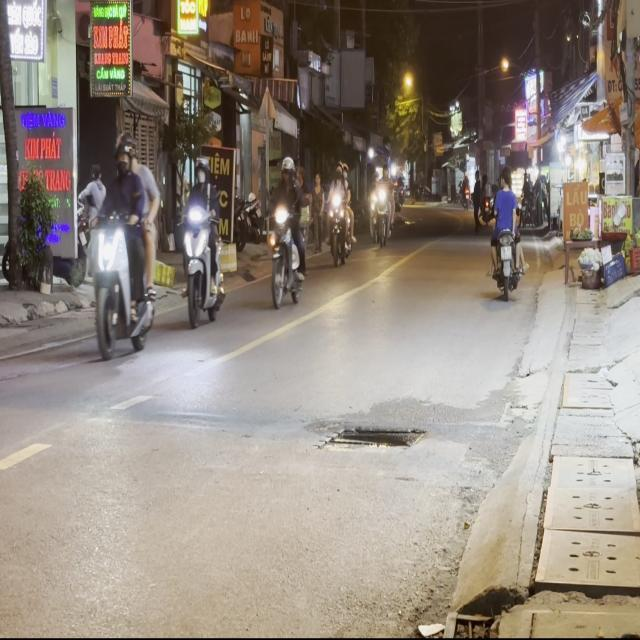helmet: (113, 131, 133, 175), (193, 155, 208, 185), (280, 155, 294, 180)
licenseplate: (85, 129, 159, 360), (178, 154, 226, 327), (266, 153, 306, 309)
